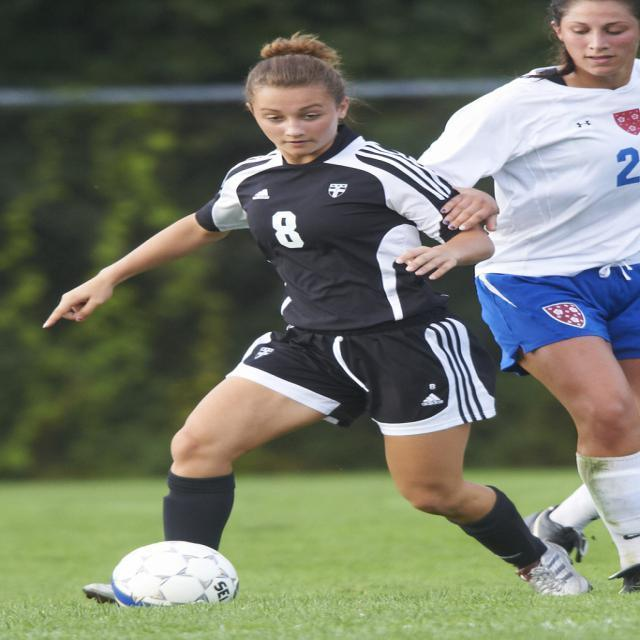football: (103, 525, 260, 625)
